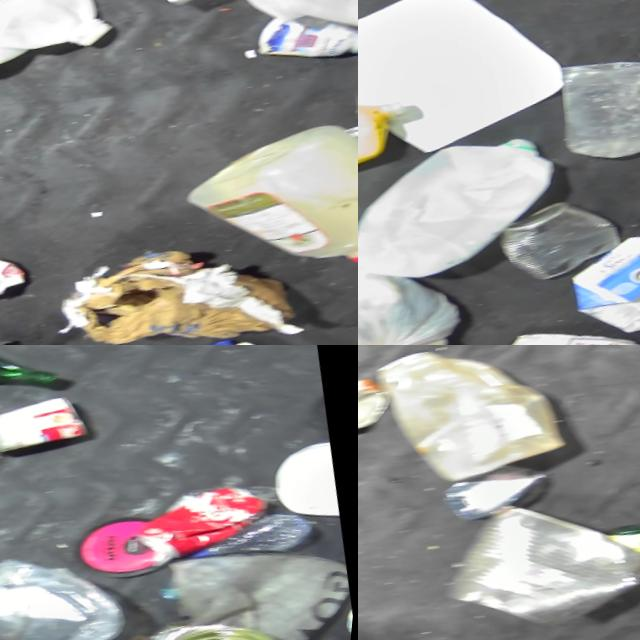can: (429, 454, 640, 640), (131, 453, 287, 568), (494, 171, 640, 283), (151, 588, 308, 640), (0, 375, 95, 458), (358, 360, 415, 440)
milk_jug: (358, 105, 583, 293), (175, 86, 358, 294), (364, 345, 587, 496), (0, 0, 125, 91), (259, 420, 348, 517)
non_white_jug: (358, 73, 423, 205)
plastic_bottle: (139, 483, 330, 603)
